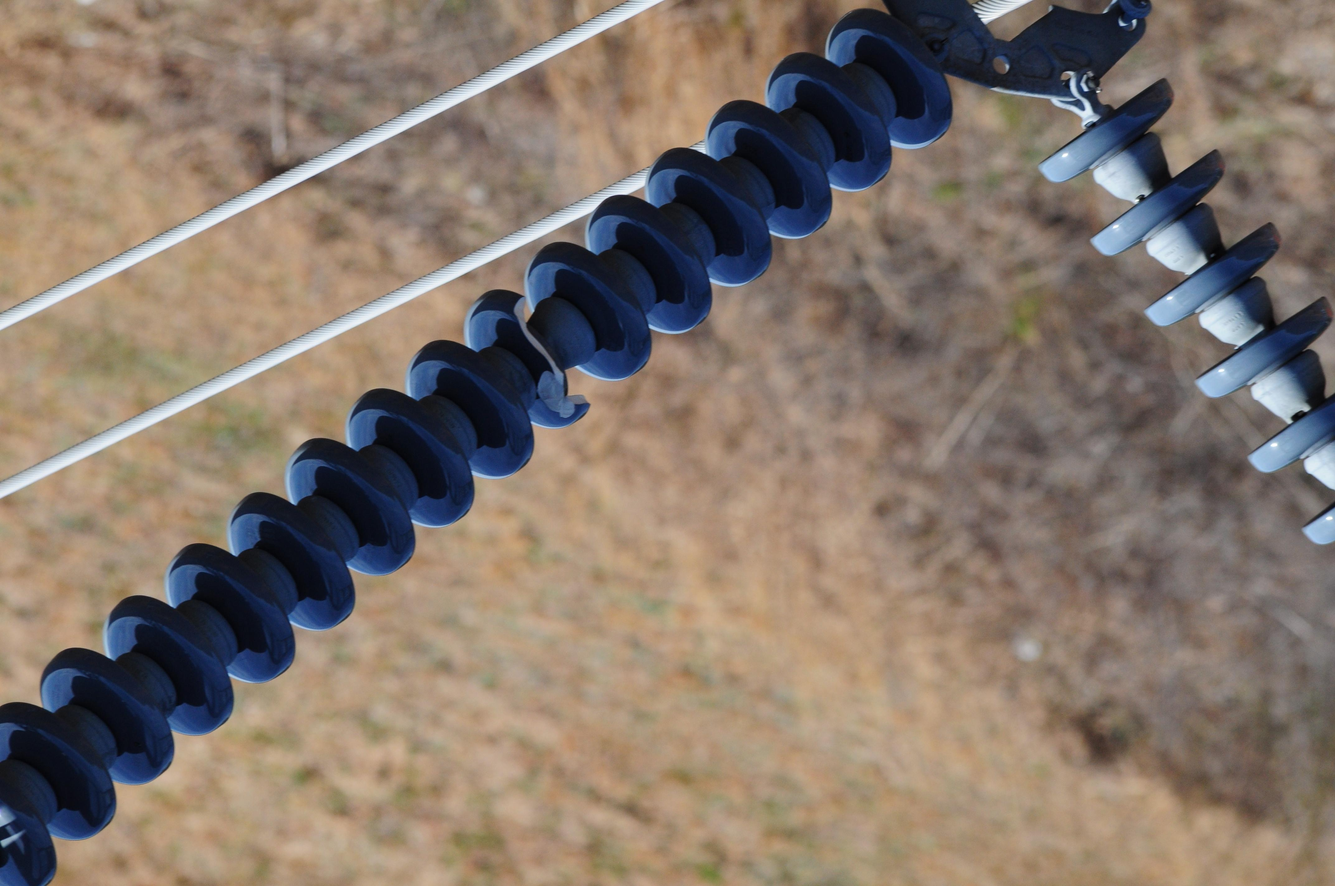damaged: (497, 292, 591, 426)
insulator: (6, 10, 946, 879), (1042, 83, 1335, 540)
